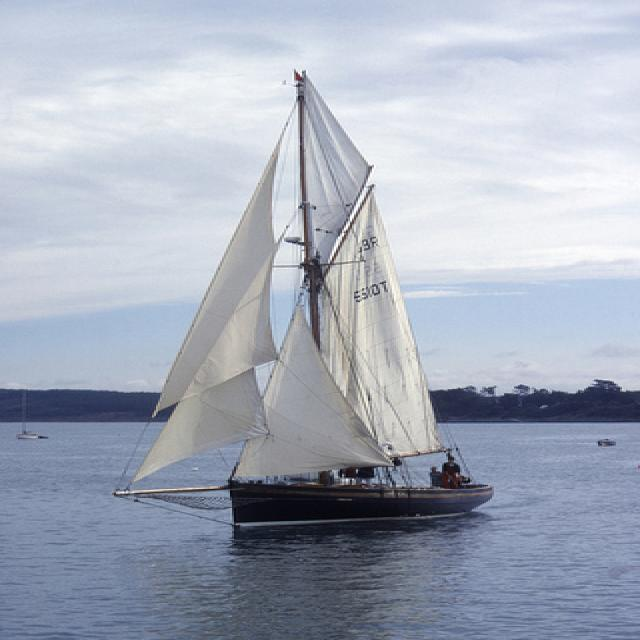Ship: (88, 80, 502, 539)
